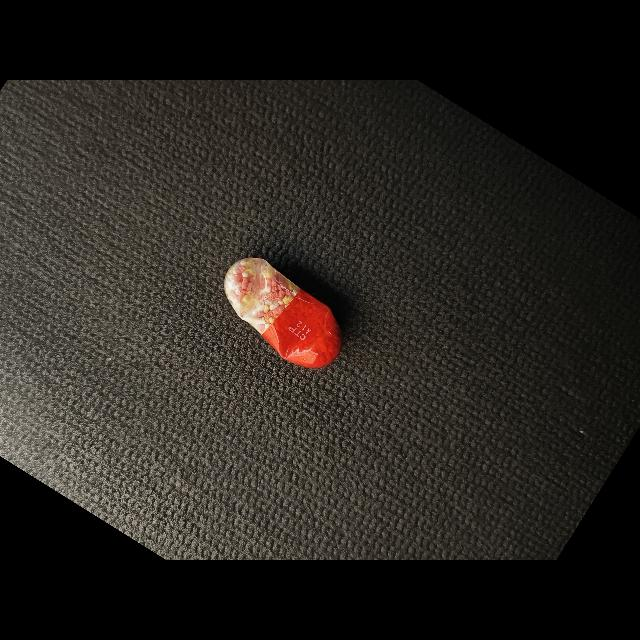Defective Capsule: (224, 258, 342, 369)
